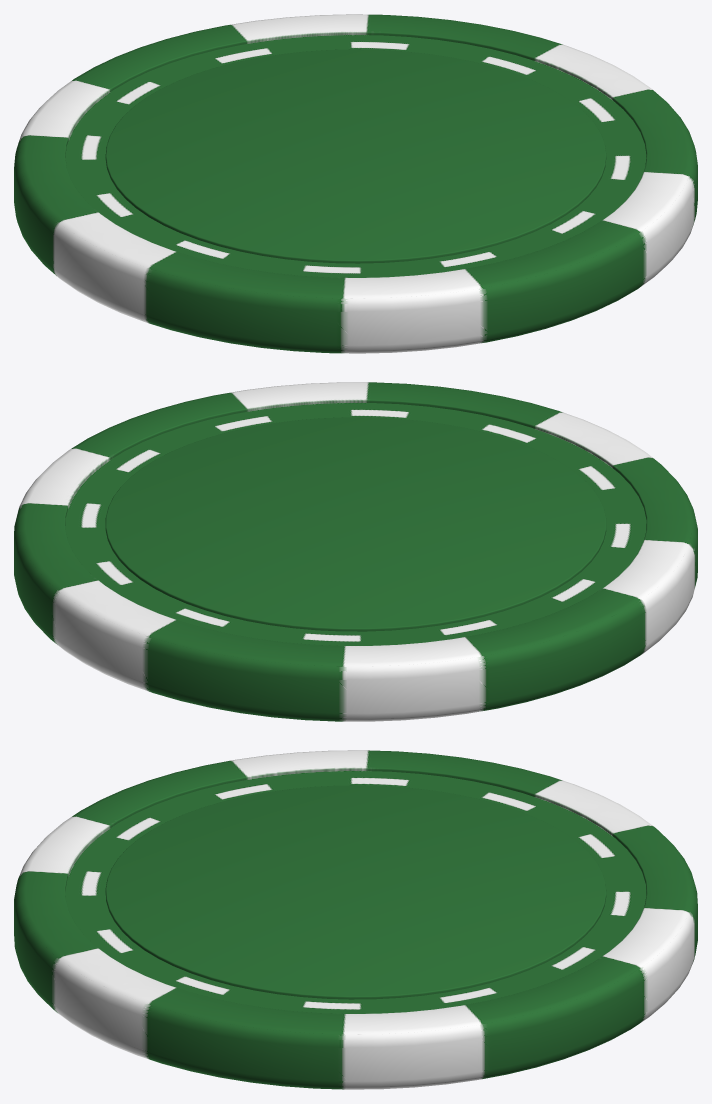
The model's file is green_white.glb.
The picture shows the model from 3 angles, top to bottom: view 1: azimuth 30°, elevation 25°; view 2: azimuth 150°, elevation 25°; view 3: azimuth 270°, elevation 25°; orthographic projection.
Parts seen in each view (by area): view 1: chips.179_chips_green_bake_0; view 2: chips.179_chips_green_bake_0; view 3: chips.179_chips_green_bake_0.
Boxes of the visible parts, bbox=[...] form: chips.179_chips_green_bake_0: bbox=[14, 14, 697, 353]; chips.179_chips_green_bake_0: bbox=[14, 382, 697, 721]; chips.179_chips_green_bake_0: bbox=[14, 750, 697, 1089].
Bounding box in the file's own units: 2 × 0.1882 × 2.
Materials: 1 (1 with a texture image).
